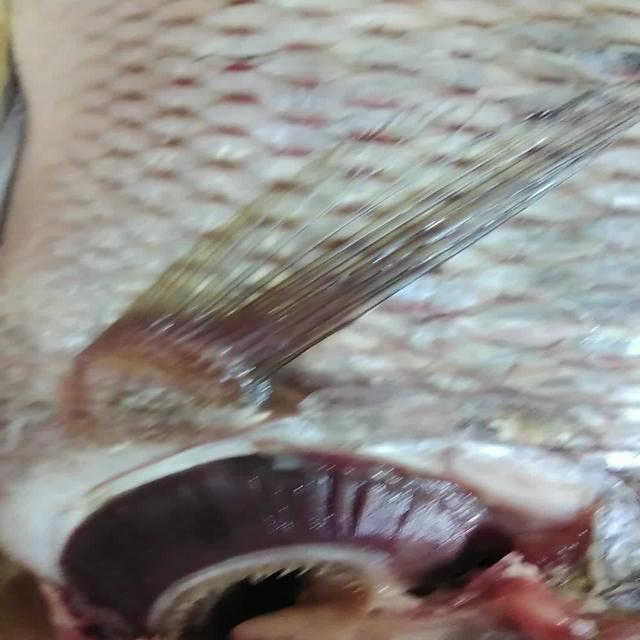Non-Fresh: (59, 452, 478, 619)
